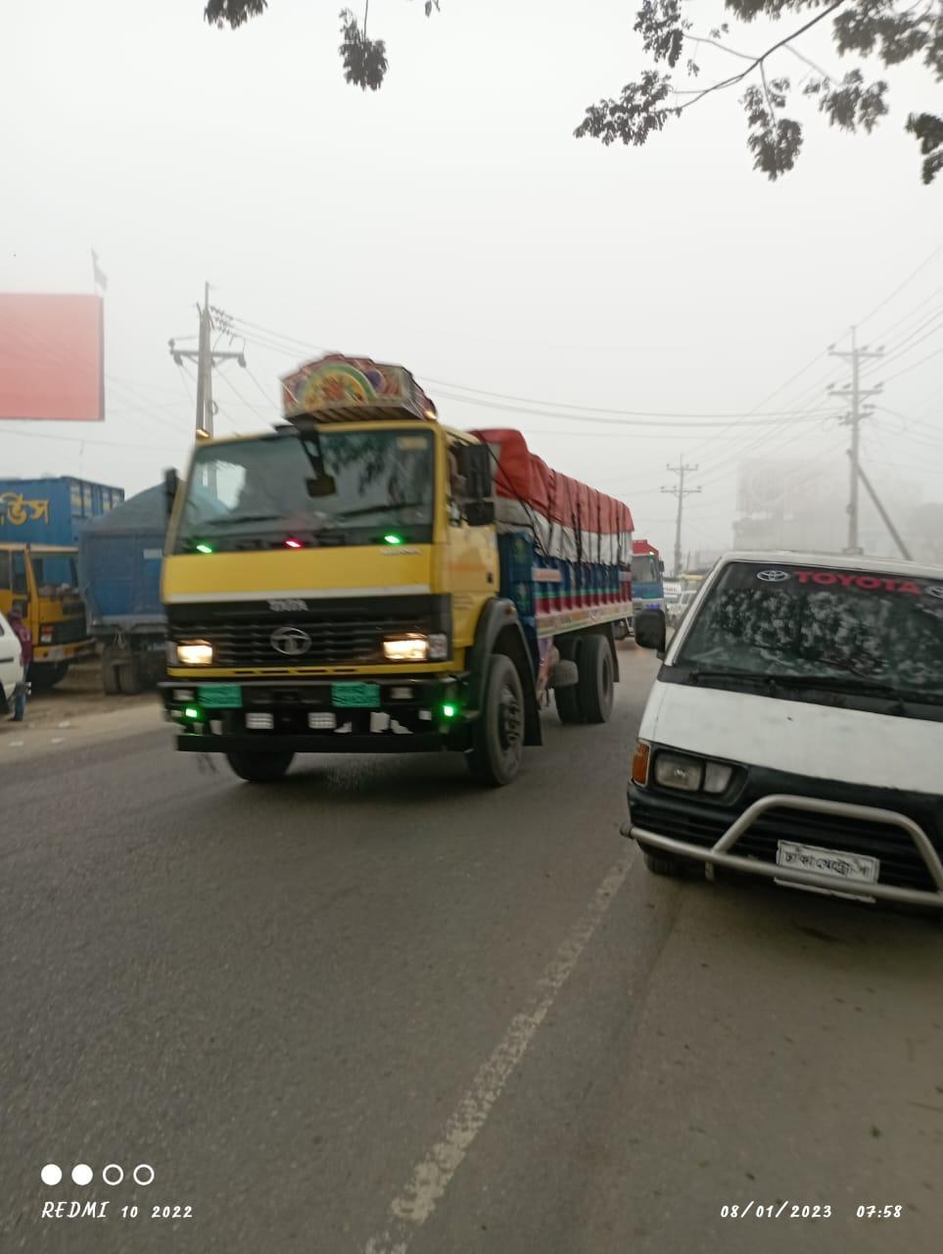Car: (633, 552, 943, 922)
Truck: (145, 346, 631, 793)
